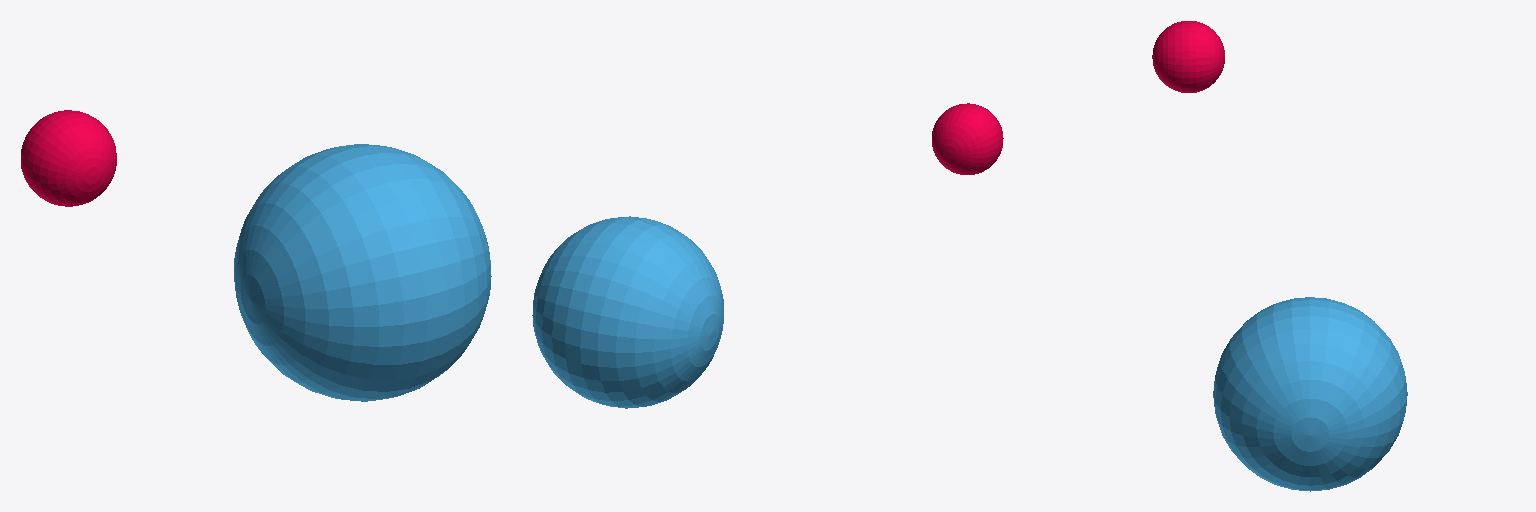
robot.urdf — panda:
<?xml version='1.0' encoding='utf-8'?>
<robot name="panda">

    <link name="base_link">
      <inertial>
        <origin xyz="0 0 0" rpy="0 0 0" />
        <mass value="0.1" />
        <inertia ixx="0.001" iyy="0..01" izz="0..01" ixy="0" ixz="0" iyz="0" />
      </inertial>
    </link>

    <link name="link0">
      <inertial>
        <origin xyz="0 0 0.05" rpy="0 0 0" />
        <mass value="4" />
        <inertia ixx="0.4" iyy="0.4" izz="0.4" ixy="0" ixz="0" iyz="0" />
      </inertial>
      <visual>
        <geometry>
          <mesh filename="../../../Model/meshes/visual/link0.obj"/>
        </geometry>
      </visual>
<!--       <collision>
        <geometry>
          <mesh filename="../../../Model/meshes/collision/link0.obj"/>
        </geometry>
      </collision> -->
    </link>
    <link name="link1">
      <inertial>
        <origin xyz="0 0 -0.07" rpy="0 -0 0" />
        <mass value="3" />
        <inertia ixx="0.3" iyy="0.3" izz="0.3" ixy="0" ixz="0" iyz="0" />
      </inertial>
      <visual>
        <geometry>
          <mesh filename="../../../Model/meshes/visual/link1.obj"/>
        </geometry>
      </visual>
      <!-- <collision>
        <geometry>
          <mesh filename="../../../Model/meshes/collision/link1.obj"/>
        </geometry>
      </collision> -->
    </link>
    <link name="link2">
      <inertial>
        <origin xyz="0 -0.1 0" rpy="0 -0 0" />
        <mass value="3" />
        <inertia ixx="0.3" iyy="0.3" izz="0.3" ixy="0" ixz="0" iyz="0" />
      </inertial>
      <visual>
        <geometry>
          <mesh filename="../../../Model/meshes/visual/link2.obj"/>
        </geometry>
      </visual>
      <!-- <collision>
        <geometry>
          <mesh filename="../../../Model/meshes/collision/link2.obj"/>
        </geometry>
      </collision> -->
    </link>
    <link name="link3">
      <inertial>
        <origin xyz="0.04 0 -0.05" rpy="0 -0 0" />
        <mass value="2" />
        <inertia ixx="0.2" iyy="0.2" izz="0.2" ixy="0" ixz="0" iyz="0" />
      </inertial>
      <visual>
        <geometry>
          <mesh filename="../../../Model/meshes/visual/link3.obj"/>
        </geometry>
      </visual>
      <!-- <collision>
        <geometry>
          <mesh filename="../../../Model/meshes/collision/link3.obj"/>
        </geometry>
      </collision> -->
    </link>
    <link name="link4">
      <inertial>
        <origin xyz="-0.04 0.05 0" rpy="0 -0 0" />
        <mass value="2" />
        <inertia ixx="0.2" iyy="0.2" izz="0.2" ixy="0" ixz="0" iyz="0" />
      </inertial>
      <visual>
        <geometry>
          <mesh filename="../../../Model/meshes/visual/link4.obj"/>
        </geometry>
      </visual>
<!--       <visual>
        <origin xyz="-0.085 0.065 0" rpy="0 0 0" />
        <geometry>
          <sphere radius="0.05"/>
        </geometry>
        <material name="material_green">
          <color rgba="0.3 0.7 0.3 1.0" />
        </material>
      </visual>   -->  
      <collision>
        <origin xyz="-0.085 0.2 0" rpy="1.5707 0 0" />
        <!-- <origin xyz="-0.085 0.065 0" rpy="1.5707 0 0" /> -->
        <geometry>
          <cylinder radius="0.05" length="0.15"/>
        </geometry>
          <material name="material_gray">
            <color rgba="0.65 0.35 0.35 1.0" />
          </material>
      </collision>   
      <visual>
        <origin xyz="-0.085 0.1 0.05" rpy="0 0 0" />
        <geometry>
          <sphere radius="0.015"/>
        </geometry>
          <material name="material_gray">
            <color rgba="0.95 0.05 0.35 1.0" />
          </material>
      </visual>      
<!--       <collision>
        <geometry>
          <mesh filename="../../../Model/meshes/collision/link4.obj"/>
        </geometry>
      </collision> -->
    </link>
    <link name="link5">
      <inertial>
        <origin xyz="0 0 -0.15" rpy="0 -0 0" />
        <mass value="2" />
        <inertia ixx="0.2" iyy="0.2" izz="0.2" ixy="0" ixz="0" iyz="0" />
      </inertial>
      <visual>
        <geometry>
          <mesh filename="../../../Model/meshes/visual/link5.obj"/>
        </geometry>
      </visual>
<!--       <collision>
        <geometry>
          <mesh filename="../../../Model/meshes/collision/link5.obj"/>
        </geometry>
      </collision> -->
    </link>
    <link name="link6">
      <inertial>
        <origin xyz="0.06 0 0" rpy="0 -0 0" />
        <mass value="1.5" />
        <inertia ixx="0.1" iyy="0.1" izz="0.1" ixy="0" ixz="0" iyz="0" />
      </inertial>
      <visual>
        <geometry>
          <mesh filename="../../../Model/meshes/visual/link6.obj"/>
        </geometry>
      </visual>
      <!-- <collision>
        <geometry>
          <mesh filename="../../../Model/meshes/collision/link6.obj"/>
        </geometry>
      </collision> -->
    </link>
    <link name="link7">
      <inertial>
        <origin xyz="0 0 0.17" rpy="0 -0 0" />
        <mass value="1.8" />
        <inertia ixx="0.09" iyy="0.05" izz="0.07" ixy="0" ixz="0" iyz="0" />
      </inertial>
      <visual>
        <geometry>
          <mesh filename="../../../Model/meshes/visual/link7.obj"/>
        </geometry>
      </visual>
      <!-- <collision>
        <geometry>
          <mesh filename="../../../Model/meshes/collision/link7.obj"/>
        </geometry>
      </collision> -->
    </link>
    <link name="end-effector">
      <inertial>
        <origin xyz="0 0 0" rpy="0 -0 0" />
        <mass value="0.2" />
        <inertia ixx="0.01" iyy="0.01" izz="0.01" ixy="0" ixz="0" iyz="0" />
      </inertial>
      <visual>
        <geometry>
          <sphere radius="0.04" />
        </geometry>
      </visual>
      <collision>
        <geometry>
          <sphere radius="0.04" />
        </geometry>
      </collision>
    </link>

     <joint name="base_joint" type="prismatic">
      <safety_controller k_position="100.0" k_velocity="40.0" soft_lower_limit="-2.8973" soft_upper_limit="2.8973"/>
      <origin xyz="0.0 0.0 0.0" rpy="0 0 0" />
      <parent link="base_link"/>
      <child link="link0"/>
      <axis xyz="0 1 0"/>
      <limit effort="87" lower="-2.8973" upper="2.8973" velocity="2.1750"/>
    </joint>   
    <joint name="joint1" type="revolute">
      <safety_controller k_position="100.0" k_velocity="40.0" soft_lower_limit="-2.8973" soft_upper_limit="2.8973"/>
      <origin rpy="0 0 0" xyz="0 0 0.333"/>
      <!-- <origin rpy="1.57079632679 0 1.57079632679" xyz="0.333 0 0.8"/> -->
      <parent link="link0"/>
      <child link="link1"/>
      <axis xyz="0 0 1"/>
      <calibration falling="20.0" />
      <limit effort="87" lower="-2.8973" upper="2.8973" velocity="2.1750"/>
    </joint>
    <joint name="joint2" type="revolute">
      <safety_controller k_position="100.0" k_velocity="40.0" soft_lower_limit="-1.7628" soft_upper_limit="1.7628"/>
      <origin rpy="-1.57079632679 0 0" xyz="0 0 0"/>
      <parent link="link1"/>
      <child link="link2"/>
      <axis xyz="0 0 1"/>
      <calibration falling="35.0" />
      <limit effort="87" lower="-1.7628" upper="1.7628" velocity="2.1750"/>
    </joint>
    <joint name="joint3" type="revolute">
      <safety_controller k_position="100.0" k_velocity="40.0" soft_lower_limit="-2.8973" soft_upper_limit="2.8973"/>
      <origin rpy="1.57079632679 0 0" xyz="0 -0.316 0"/>
      <parent link="link2"/>
      <child link="link3"/>
      <axis xyz="0 0 1"/>
      <limit effort="87" lower="-2.8973" upper="2.8973" velocity="2.1750"/>
    </joint>
    <joint name="joint4" type="revolute">
      <safety_controller k_position="100.0" k_velocity="40.0" soft_lower_limit="-3.0718" soft_upper_limit="-0.0698"/>
      <origin rpy="1.57079632679 0 0" xyz="0.0825 0 0"/>
      <parent link="link3"/>
      <child link="link4"/>
      <axis xyz="0 0 1"/>
      <calibration falling="-70.0" />
      <limit effort="87" lower="-3.0718" upper="-0.0698" velocity="2.1750"/>
    </joint>
    <joint name="joint5" type="revolute">
      <safety_controller k_position="100.0" k_velocity="40.0" soft_lower_limit="-2.8973" soft_upper_limit="2.8973"/>
      <origin rpy="-1.57079632679 0 0" xyz="-0.0825 0.384 0"/>
      <parent link="link4"/>
      <child link="link5"/>
      <axis xyz="0 0 1"/>
      <calibration falling="0.0" />
      <limit effort="12" lower="-2.8973" upper="2.8973" velocity="2.6100"/>
    </joint>
    <joint name="joint6" type="revolute">
      <safety_controller k_position="100.0" k_velocity="40.0" soft_lower_limit="-0.0175" soft_upper_limit="3.7525"/>
      <origin rpy="1.57079632679 0 0" xyz="0 0 0"/>
      <parent link="link5"/>
      <child link="link6"/>
      <axis xyz="0 0 1"/>
      <calibration falling="125.0" />
      <limit effort="12" lower="-0.0175" upper="3.7525" velocity="2.6100"/>
    </joint>
    <joint name="joint7" type="revolute">
      <safety_controller k_position="100.0" k_velocity="40.0" soft_lower_limit="-2.8973" soft_upper_limit="2.8973"/>
      <origin rpy="1.57079632679 0 0" xyz="0.088 0 0"/>
      <parent link="link6"/>
      <child link="link7"/>
      <axis xyz="0 0 1"/>
      <limit effort="12" lower="-2.8973" upper="2.8973" velocity="2.6100"/>
    </joint>
    <joint name="joint_ee" type="fixed">
      <!-- <safety_controller k_position="100.0" k_velocity="40.0" soft_lower_limit="-2.8973" soft_upper_limit="2.8973"/> -->
      <origin rpy="0 0 0" xyz="0 0 0.15"/>
      <parent link="link7"/>
      <child link="end-effector"/>
      <!-- <axis xyz="0 0 1"/> -->
      <!-- <limit effort="12" lower="-2.8973" upper="2.8973" velocity="2.6100"/> -->
    </joint>
</robot>

--- Facts derived from the render (not from the file) ---
Views: 3 orthographic renders of the robot side by side, from view 1: azimuth 30°, elevation 25°; view 2: azimuth 150°, elevation 25°; view 3: azimuth 270°, elevation 25°.
Robot: panda — 10 links, 9 joints (7 revolute, 1 prismatic, 1 fixed); root link base_link; default pose: joints at zero except 1 at the middle of their limits (joint4 = -1.57).
Visible links, largest first — view 1: end-effector, link4; view 2: end-effector, link4; view 3: end-effector, link4.
Link boxes in pixels (x1,y1,x2,y2): end-effector: [234, 144, 491, 401]; link4: [21, 110, 116, 206]; end-effector: [532, 216, 723, 408]; link4: [932, 103, 1003, 174]; end-effector: [1213, 297, 1407, 491]; link4: [1152, 21, 1224, 92].
Size in the robot's own frame: 0.189 by 0.105 by 0.1455 metres.
Geometry: only primitive shapes (box / cylinder / sphere) drawn; not drawn: 8 mesh visuals (reference in a form the renderer does not follow).